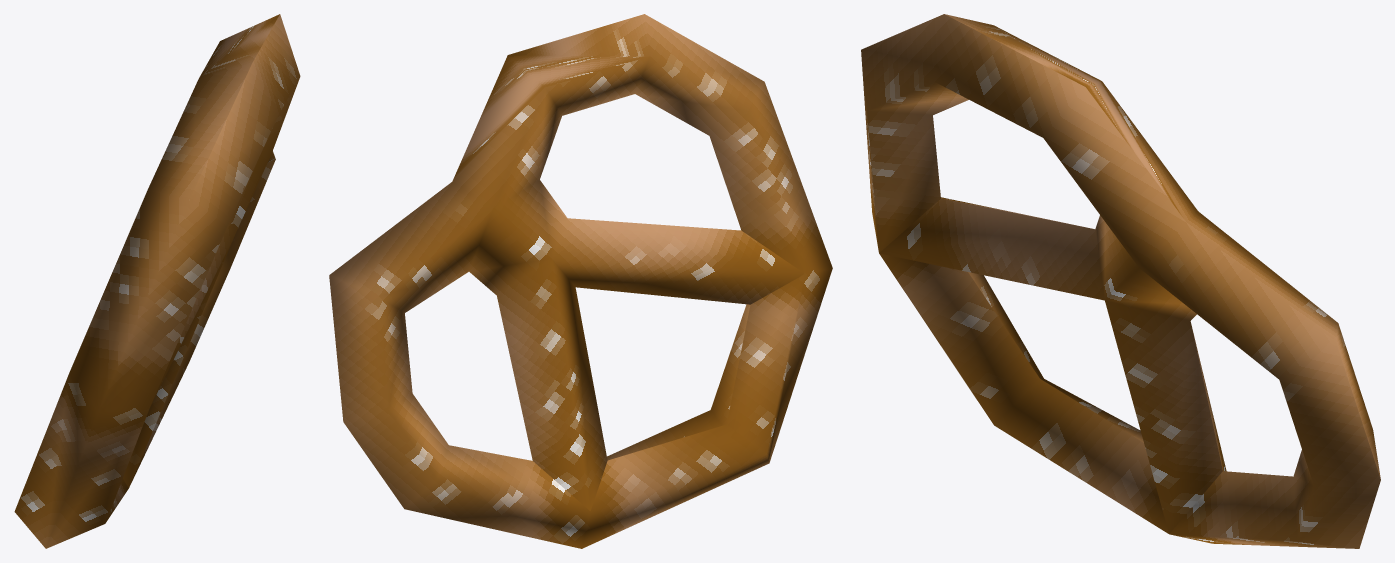
File: H_Pretzel.fbx
The picture shows the model from 3 angles, left to right: view 1: azimuth 30°, elevation 25°; view 2: azimuth 150°, elevation 25°; view 3: azimuth 270°, elevation 25°; orthographic projection. The views are drawn at different scales.
Parts seen in each view (by area): view 1: Pretzel; view 2: Pretzel; view 3: Pretzel.
Boxes of the visible parts, <box> form: Pretzel: <box>14,14,300,548</box>; Pretzel: <box>329,14,832,548</box>; Pretzel: <box>861,14,1380,548</box>.
Size of the model in its own units: 16.28 by 21.61 by 18.28.
